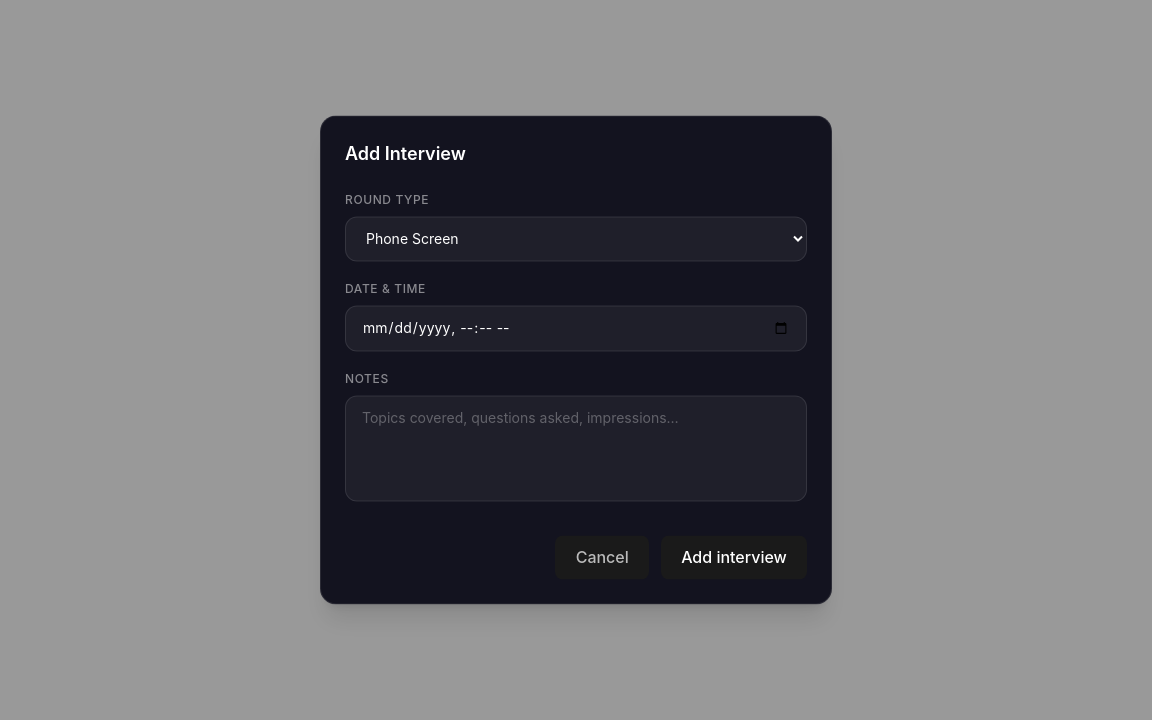
Scenario: InterviewForm › shows a validation error when submitted without notes
Type "2026-08-01T14:00" into the field labelled "Date & Time".
click(576, 328); type("2026-08-01T14:00")  # box [345,306,807,352]
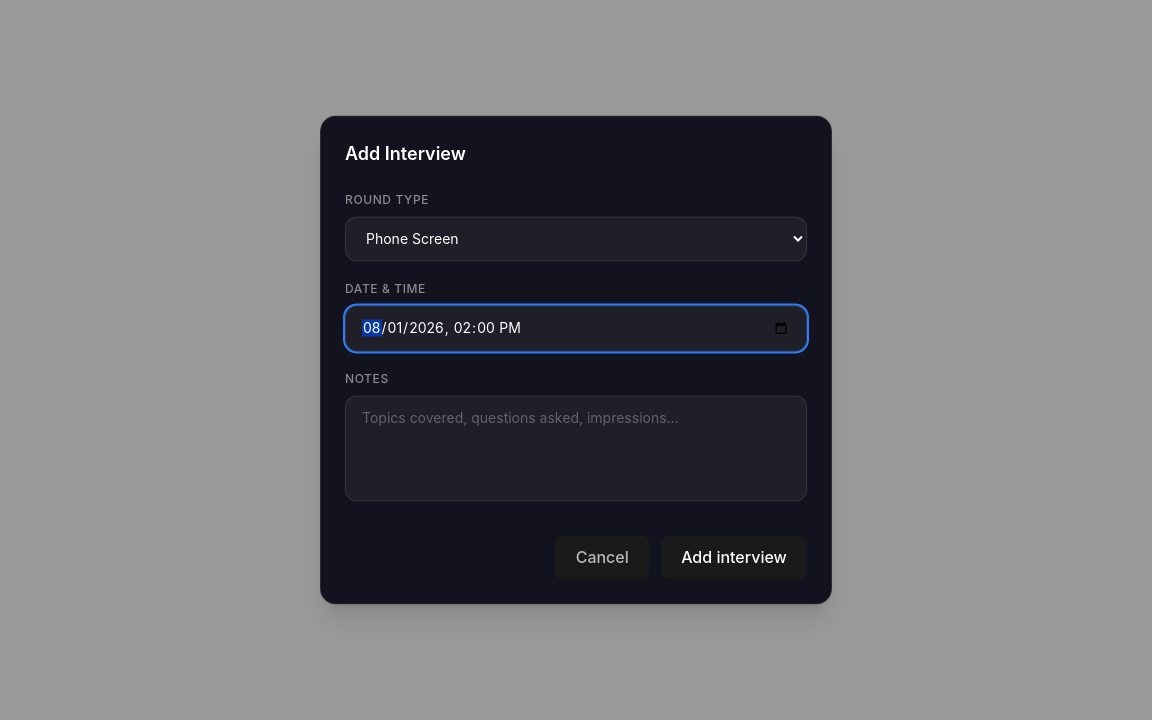
Click the button "Add interview".
click(734, 558)  # box [661,536,807,580]
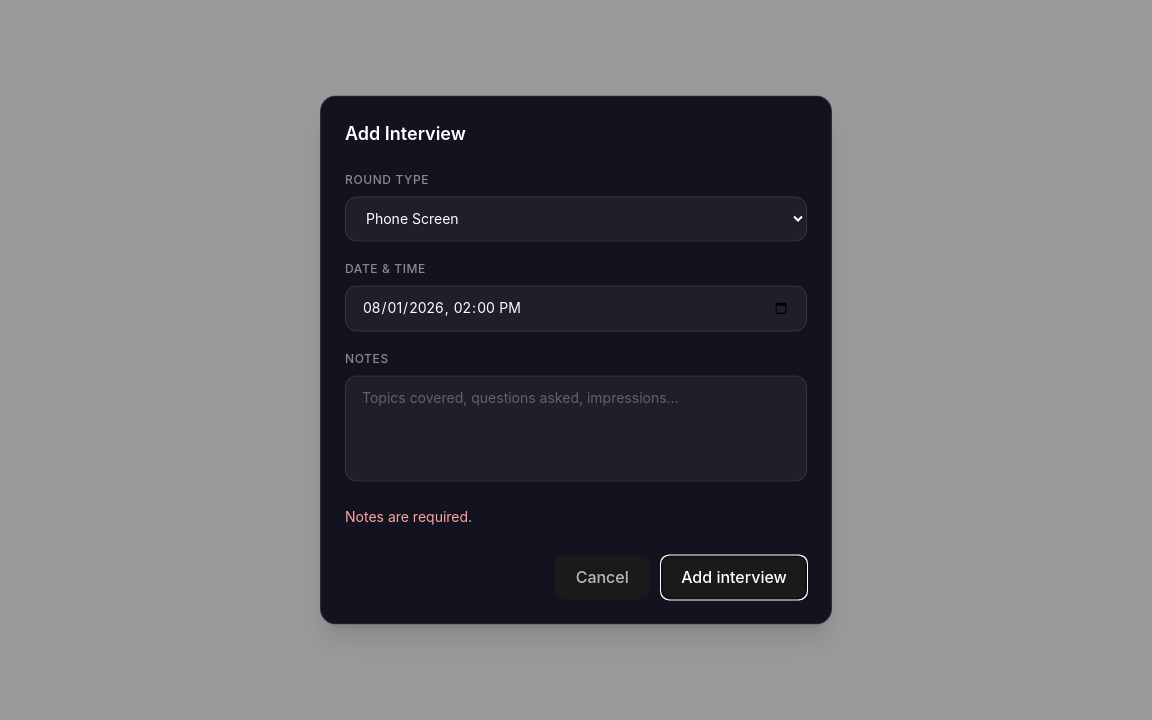
Expected: the message "Notes are required." is shown, [345,508,472,526]
